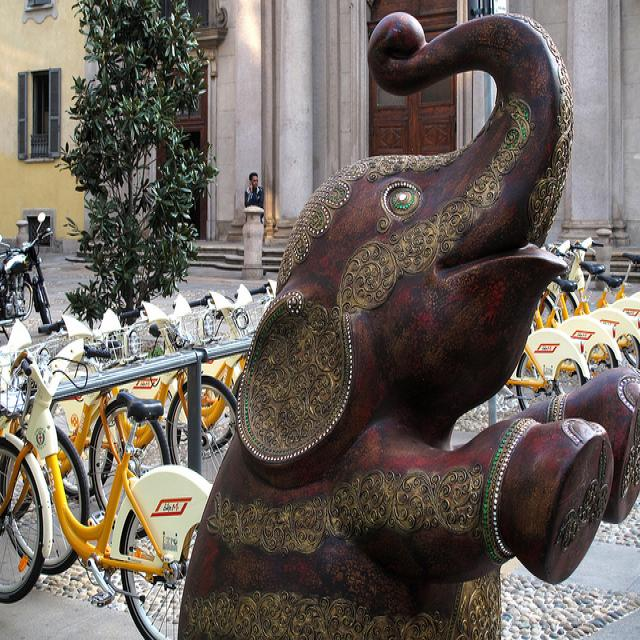motor: (0, 211, 54, 342)
